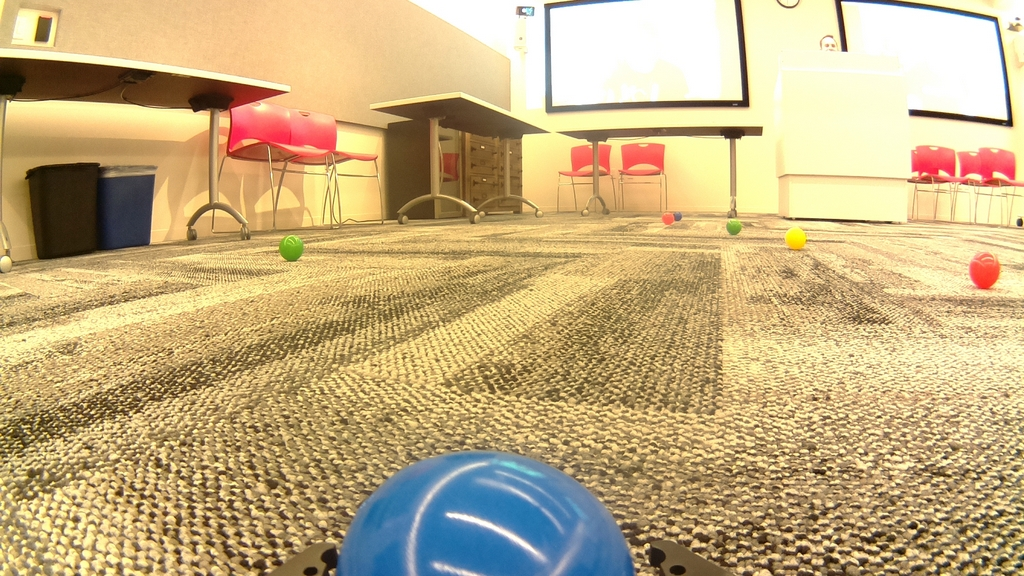ball: (971, 253, 1000, 291)
